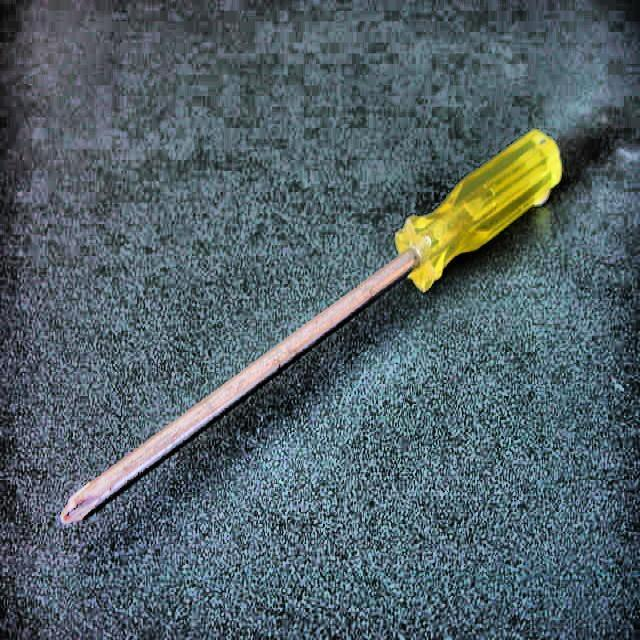screwdriver: (58, 129, 562, 523)
